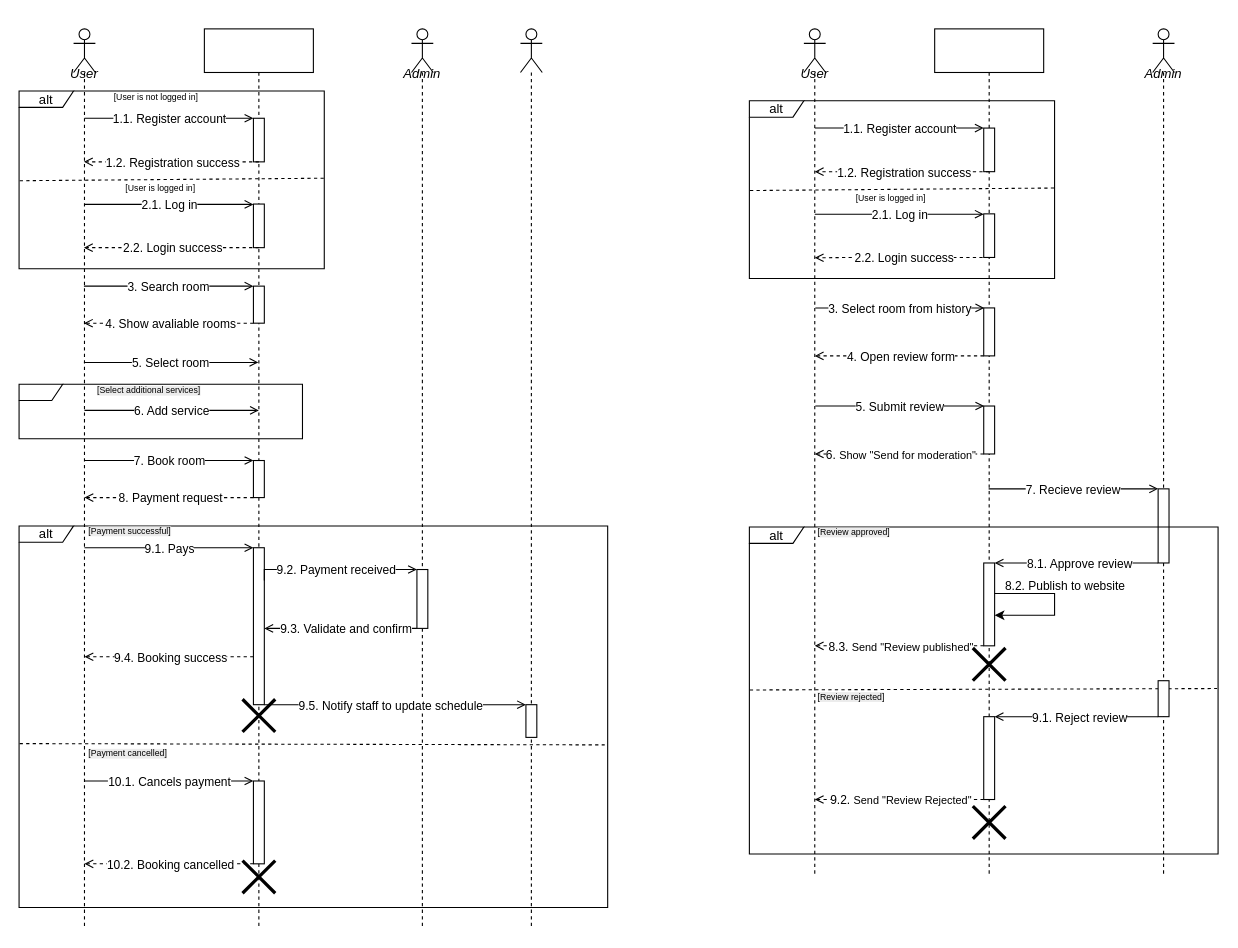
The diagram is 1238 pixels wide and 948 high, and some of its shapes have lost their labels. The box of each missing label's shape, as (x1, y1, x2, y2) in pixels:
Booking: (203, 28, 313, 929)
Feedback: (934, 28, 1044, 875)
opt: (18, 383, 302, 439)
Staff: (519, 28, 542, 929)
